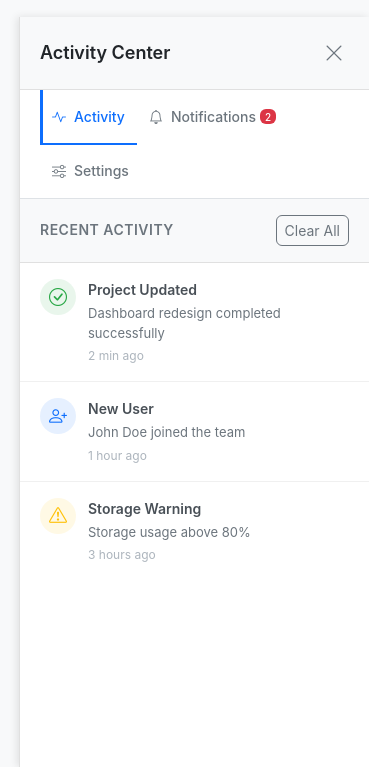
Test: RightPanel › clears all activities when Clear All is clicked
What coordinates should you click on to do the following:
click the button "Clear All"
I would click on:
 (312, 230)
Its box is [276,215,349,246].
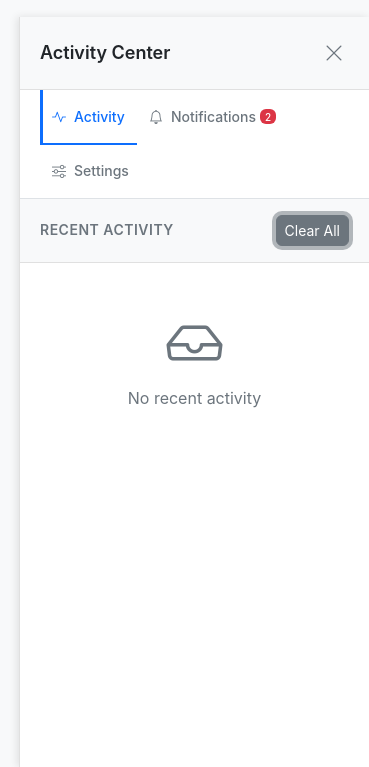
Now the text "No recent activity" is shown, box [128,386,261,410]
Now the text "Project Updated" is gone
